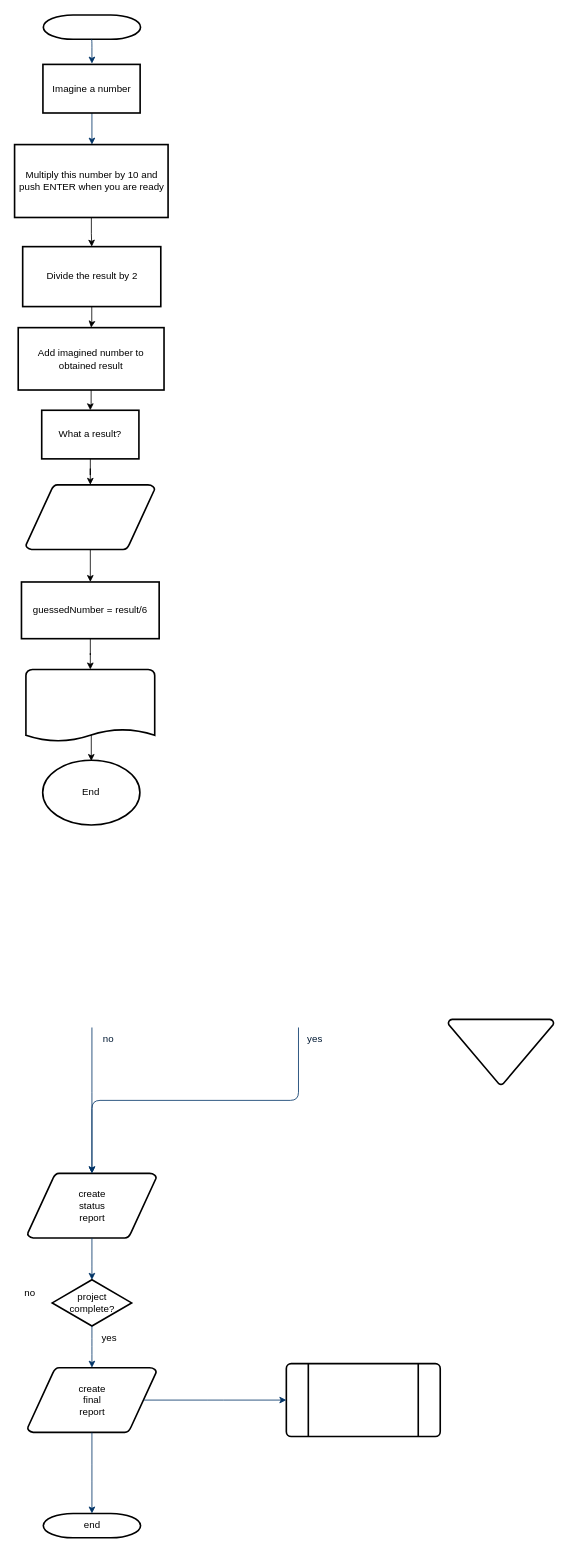
The diagram is 569 pixels wide and 1552 high, and some of its shapes have lost their labels. Each missing label, with the centre of its shape:
"guessedNumber" goes at point 90,705.
"issue bill of works" goes at point 363,1399.
"Result" goes at point 90,517.
"start" goes at point 91,27.
"terminate contract" goes at point 500,1051.
